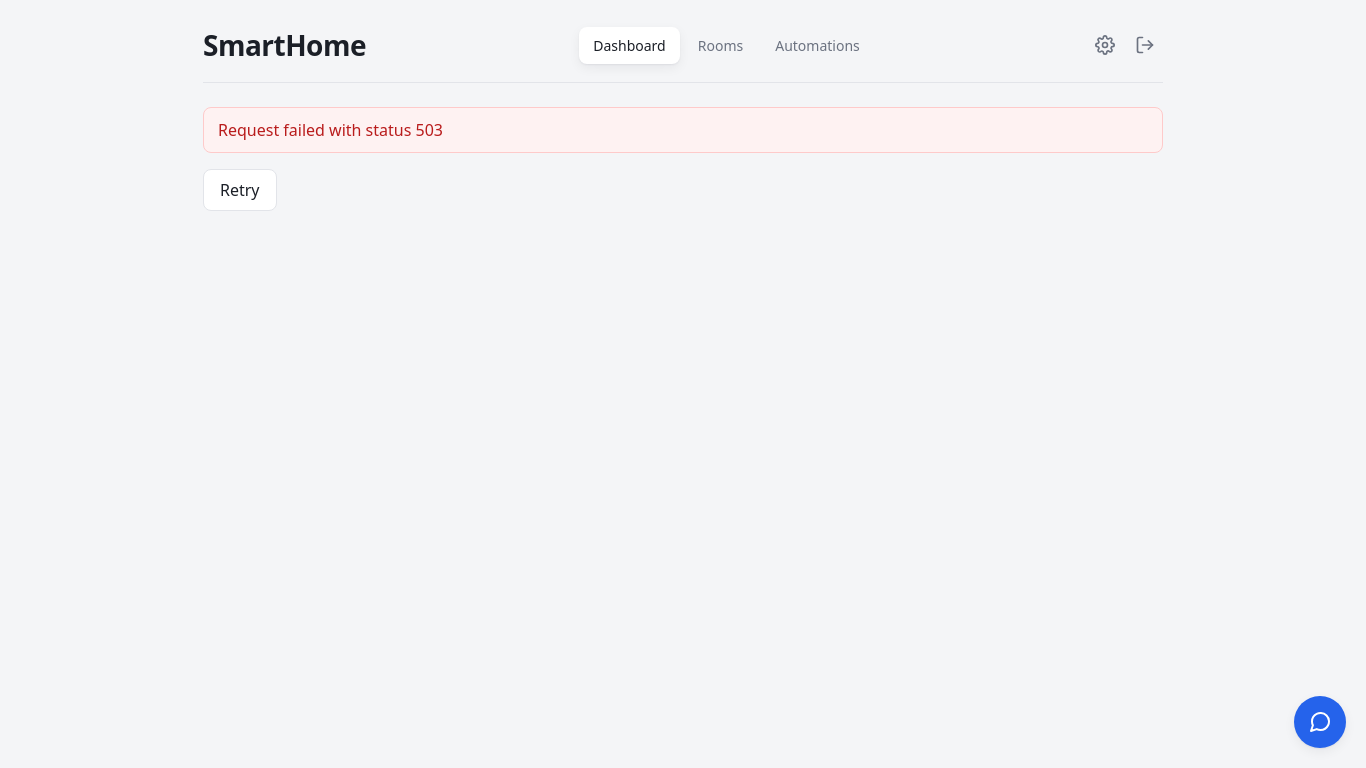
it: App › surfaces a load error with a Retry that reloads
Expected: the message reads "Request failed with status 503", x1=218 y1=119 x2=443 y2=141
What coordinates should you click on to do the following:
click the button "Retry"
I would click on:
 (240, 190)
Its box is x1=203 y1=169 x2=276 y2=211.
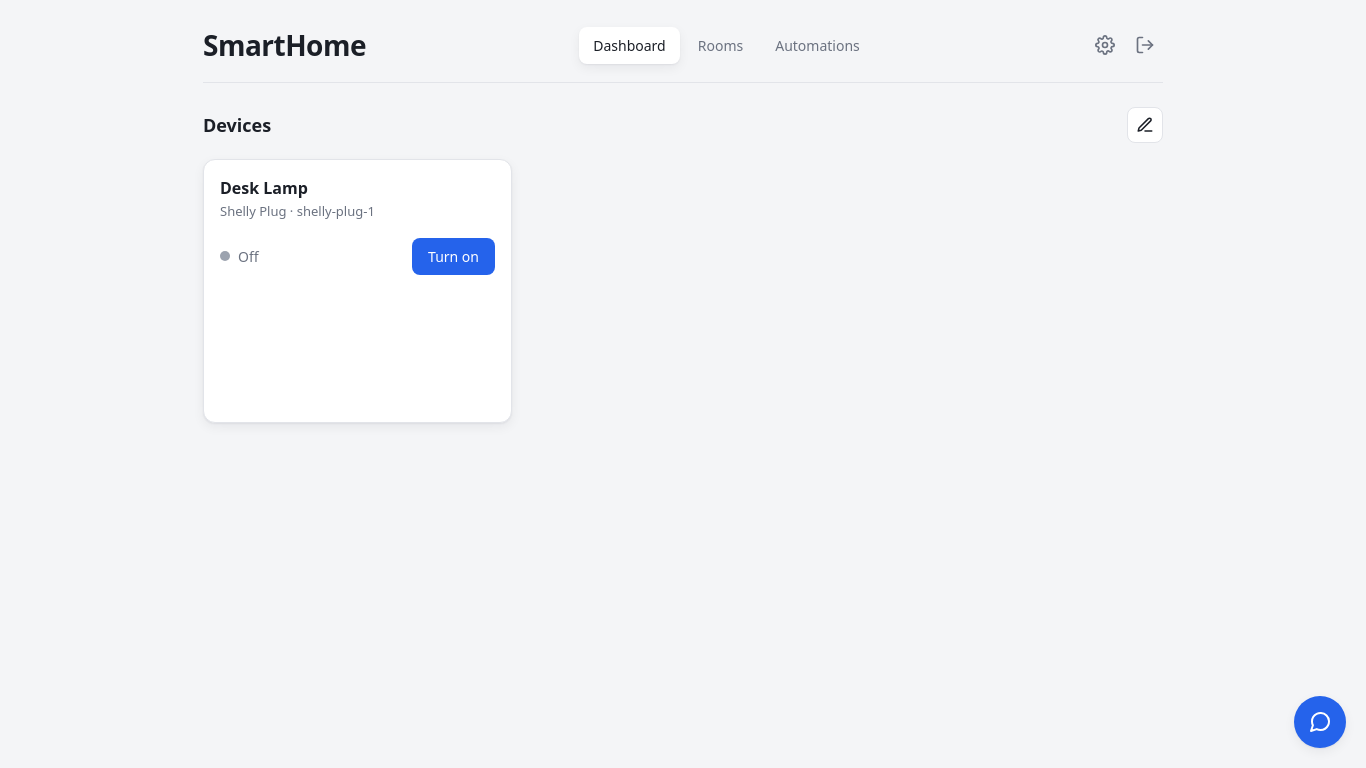
Now the text "Desk Lamp" is shown, box x1=220 y1=177 x2=308 y2=199
